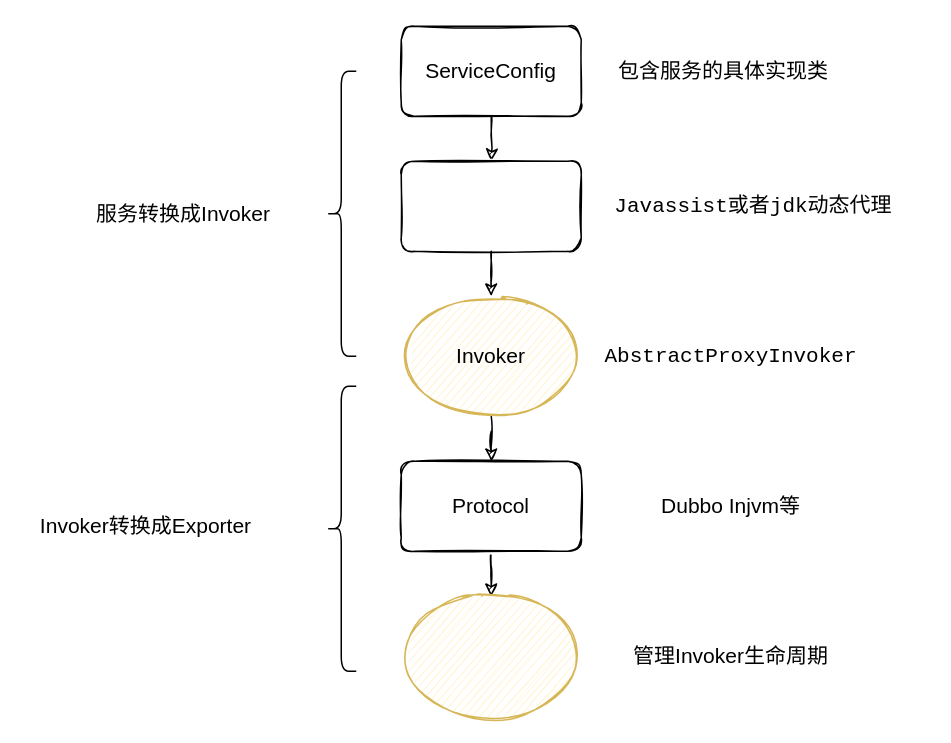
The diagram is 951 pixels wide and 743 high, and some of its shapes have lost their labels. Each missing label, with the centre of its shape:
"Exporter" goes at point 490,655.
"ProxyFactory" goes at point 490,205.
